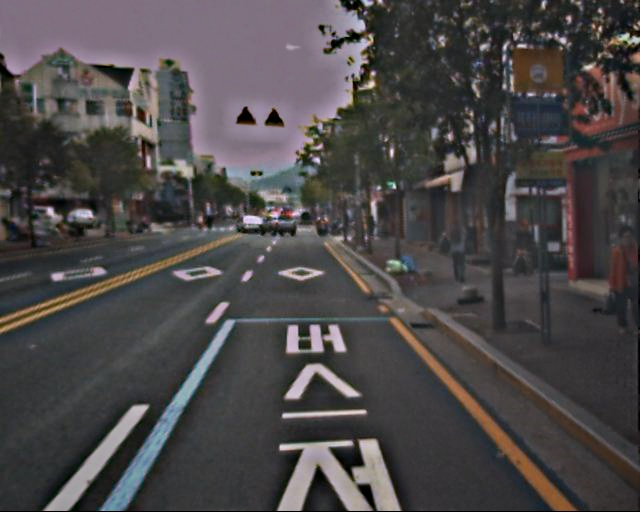person: (591, 224, 640, 337), (442, 214, 471, 283), (512, 218, 535, 275)
